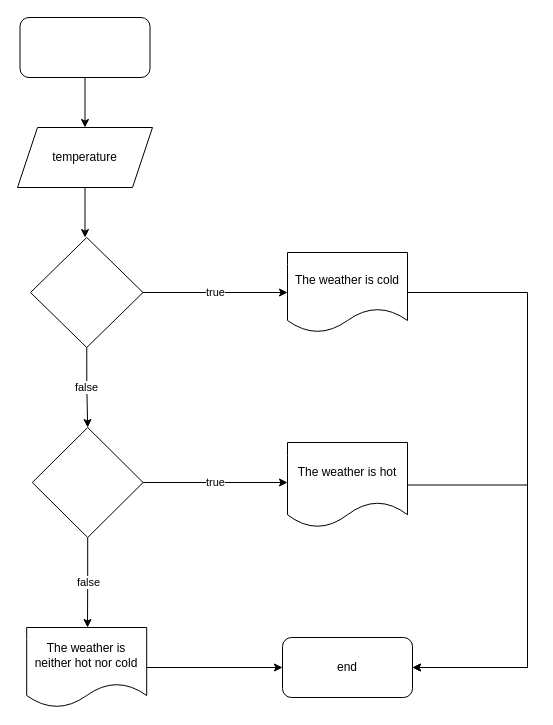
Image size: 553x725. Some labels were removed from this diagram. The shapes that lost their labels are listed below. From the top down, each one's centre as x and y in pixels, then its label:
At pixel 84 47: "start".
At pixel 86 292: "temperature<15".
At pixel 87 482: "temperature>15".
